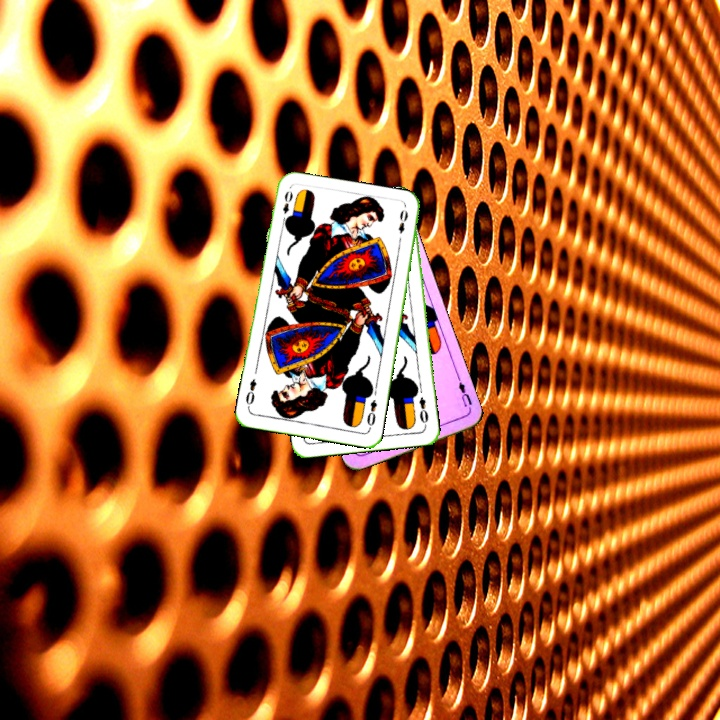EO: (278, 187, 295, 226), (415, 393, 431, 429), (363, 396, 379, 432)
EU: (452, 374, 475, 413)
